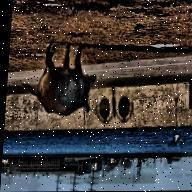boar: (15, 48, 100, 116)
